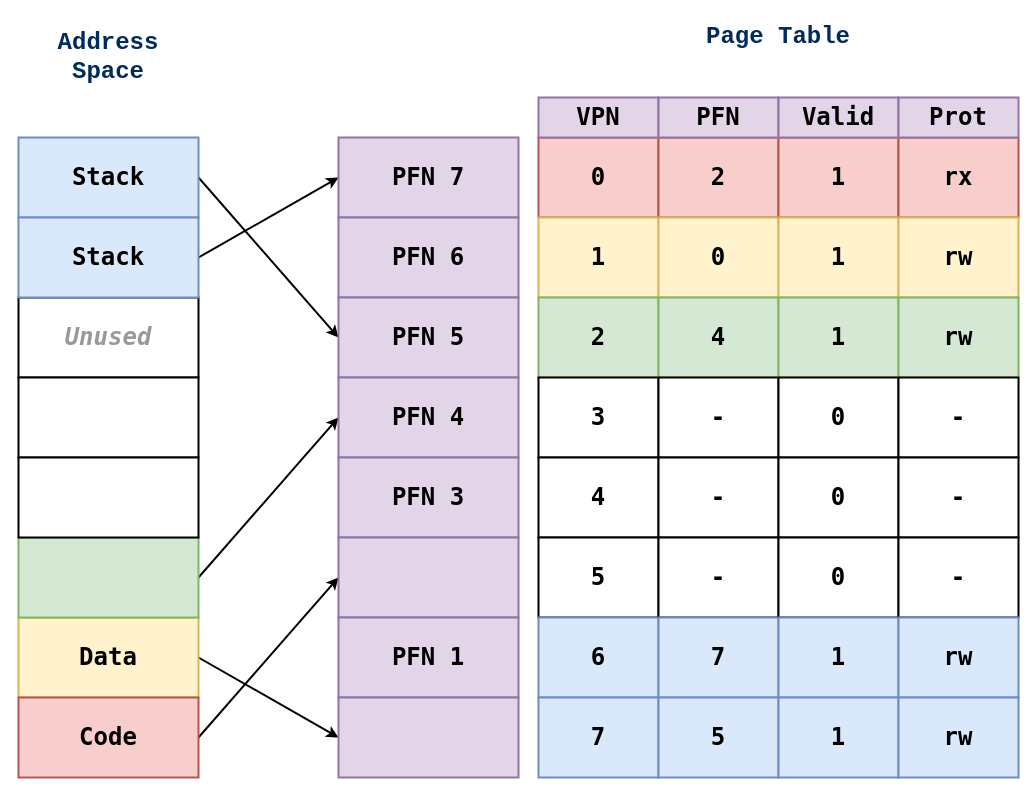
This 1036x795 diagram has some shape labels left out. The shapes that lost their labels are listed below. From the top down, each one's centre as x and y in pixels, then its label:
At (x=108, y=577): "Heap".
At (x=428, y=577): "PFN 2".
At (x=428, y=737): "PFN 0".
